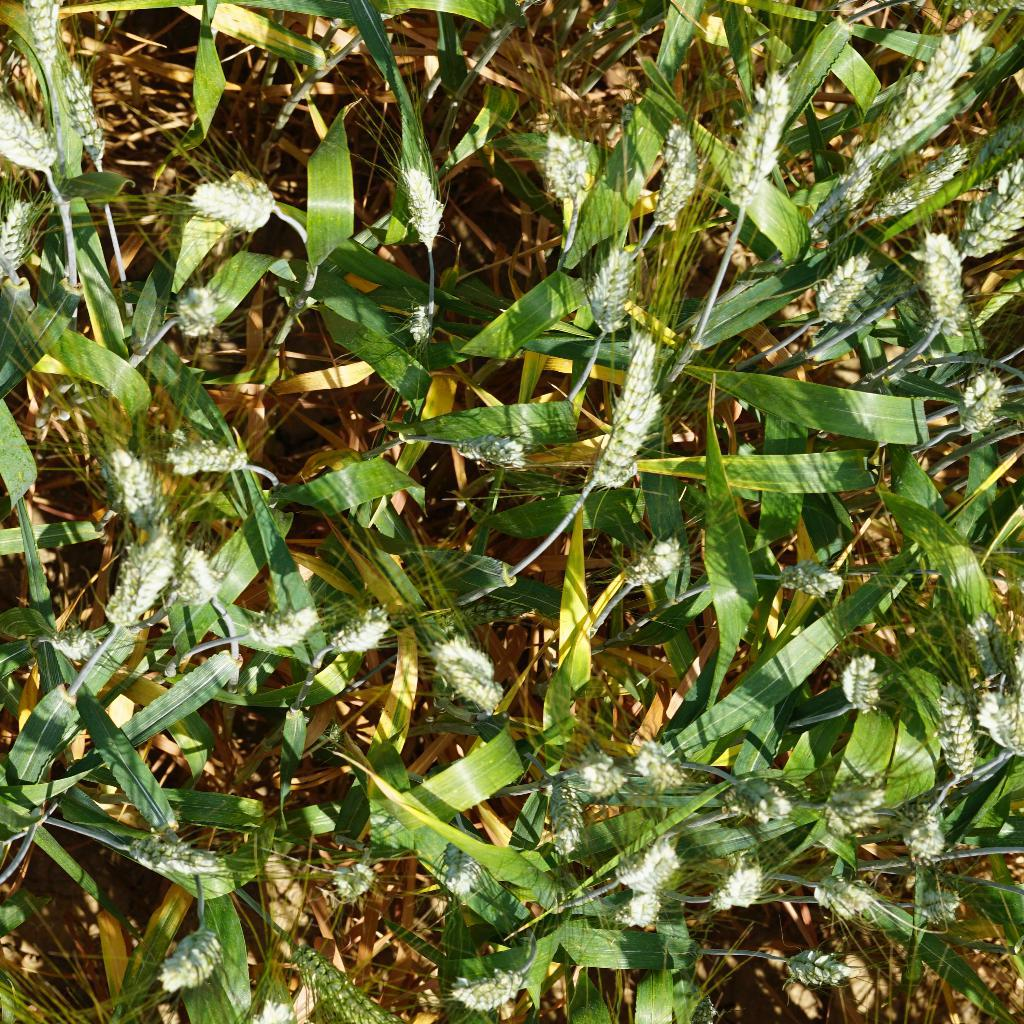0-0: (582, 331, 666, 493), (830, 73, 952, 175), (284, 935, 408, 1024), (720, 58, 787, 206), (860, 148, 986, 219), (175, 165, 294, 240), (415, 627, 511, 717), (93, 520, 171, 630), (639, 101, 703, 230), (55, 68, 120, 182), (388, 146, 456, 250), (0, 77, 68, 180), (126, 819, 232, 884), (803, 854, 899, 925), (243, 589, 324, 668), (610, 819, 692, 897), (90, 432, 169, 512), (586, 234, 642, 339), (537, 112, 597, 210), (897, 17, 982, 85), (908, 221, 965, 322), (762, 937, 863, 993), (967, 168, 1024, 267), (163, 426, 257, 485), (157, 915, 227, 993), (945, 610, 1023, 680), (436, 813, 494, 905), (810, 246, 875, 328), (733, 770, 806, 841), (926, 688, 982, 780), (825, 763, 886, 843), (201, 986, 328, 1024), (175, 277, 240, 350), (836, 642, 893, 725), (451, 960, 535, 1015), (4, 0, 66, 74), (329, 593, 391, 666), (897, 791, 955, 869), (553, 739, 628, 799), (628, 530, 692, 600), (632, 731, 702, 793), (944, 366, 1008, 433), (776, 545, 843, 606), (455, 414, 526, 467), (713, 854, 773, 915), (982, 681, 1024, 763), (909, 877, 964, 938), (545, 798, 591, 866), (617, 886, 677, 937), (178, 549, 225, 613), (0, 202, 38, 280), (320, 851, 369, 904), (52, 617, 101, 666), (671, 982, 724, 1024), (395, 301, 438, 350)
